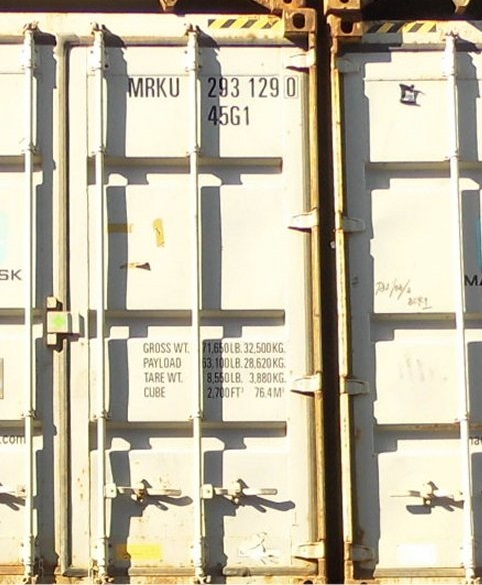container_door: (4, 9, 339, 581), (327, 15, 477, 583)
